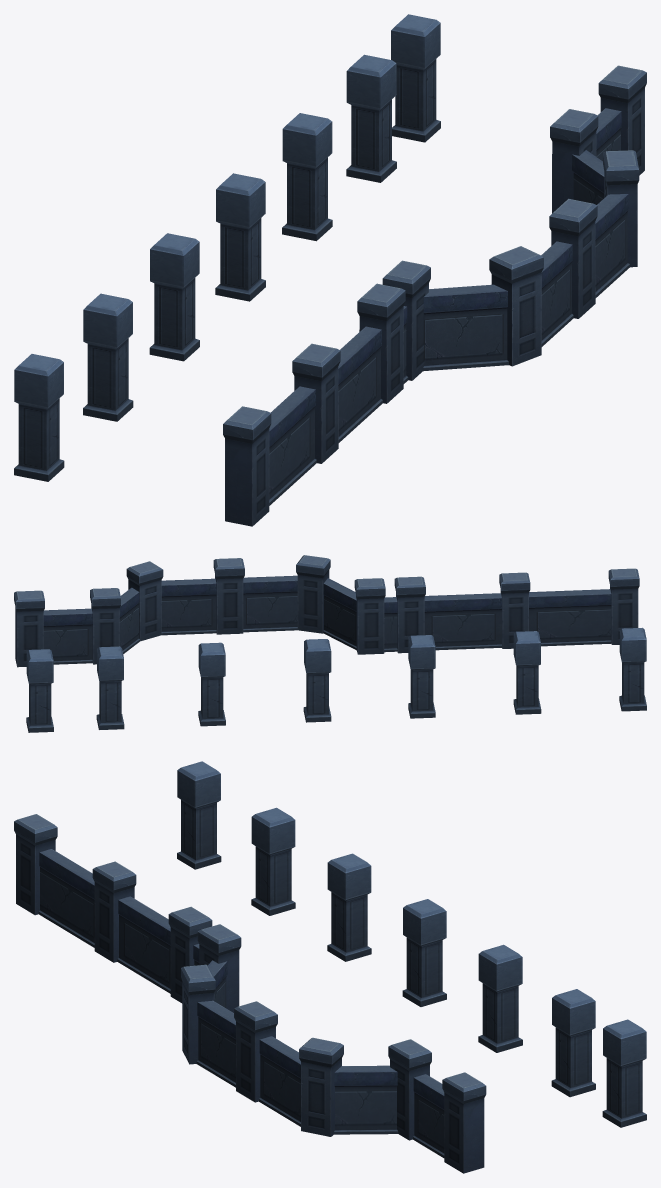
The model's file is Area_08_3.fbx.
3 views of the same model, one above another, from view 1: azimuth 30°, elevation 25°; view 2: azimuth 150°, elevation 25°; view 3: azimuth 270°, elevation 25° (orthographic). The views are drawn at different scales.
Parts seen in each view (by area): view 1: Area_08_3; view 2: Area_08_3; view 3: Area_08_3.
Part boxes in pixels (x1,y1,x2,y2): Area_08_3: (14, 14, 646, 526); Area_08_3: (14, 555, 646, 732); Area_08_3: (14, 761, 646, 1173).
Size of the model in its own units: 5261 by 701 by 4360.
